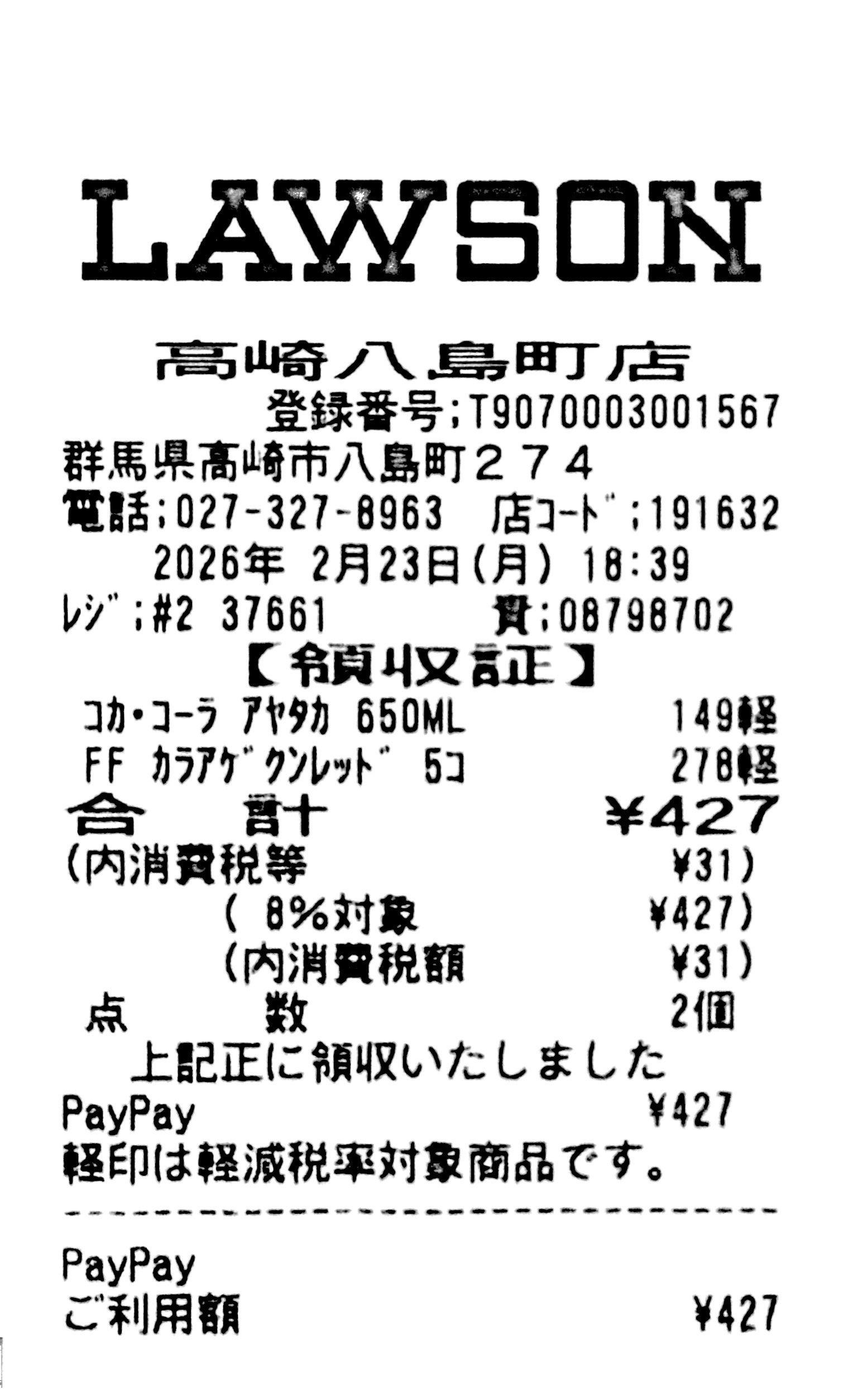Date: (154, 543, 459, 587)
Pay: (65, 792, 780, 837)
Shopname: (81, 179, 761, 282)
Telnum: (176, 493, 442, 531)
